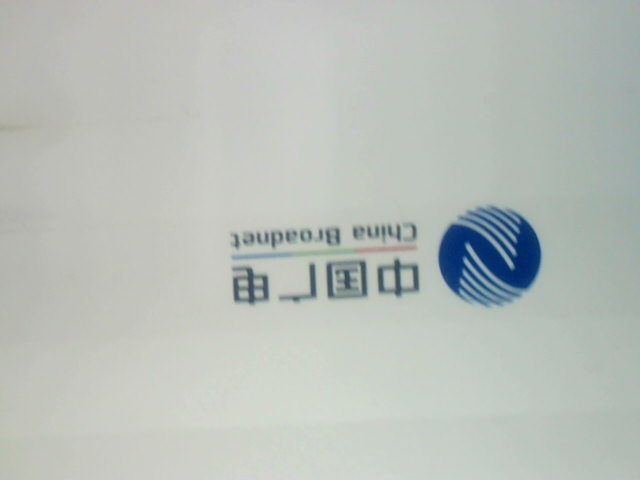AW_ChinaBroadNet: (208, 199, 550, 313)
